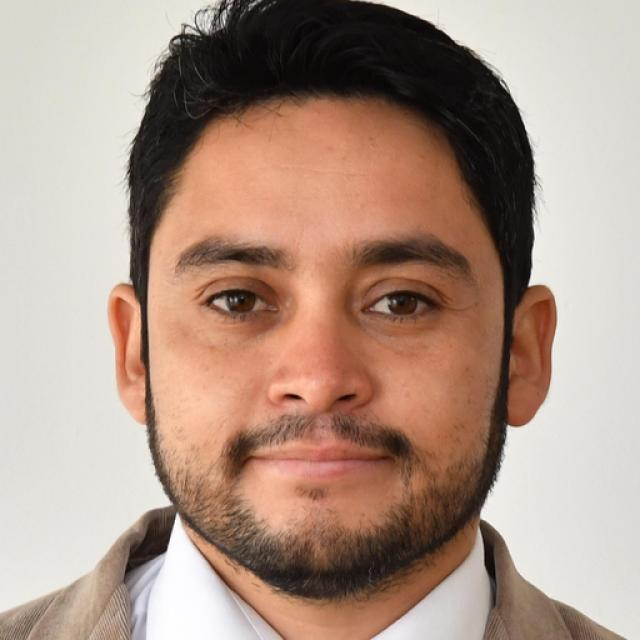neutral: (146, 100, 509, 591)
